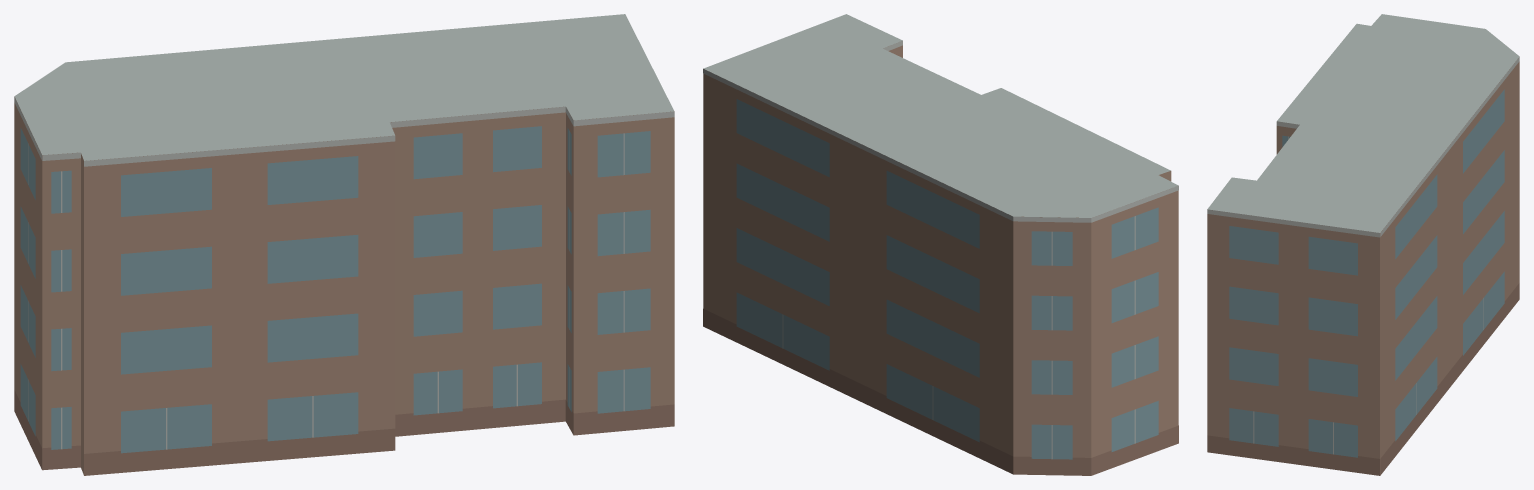
File: survey-upis-32702220.glb
3 views of the same model, side by side, from view 1: azimuth 30°, elevation 25°; view 2: azimuth 150°, elevation 25°; view 3: azimuth 270°, elevation 25° (orthographic). The views are drawn at different scales.
Visible parts, largest first — view 1: survey-upis-32702220.tmp; view 2: survey-upis-32702220.tmp; view 3: survey-upis-32702220.tmp.
Part boxes in pixels (x1,y1,x2,y2): survey-upis-32702220.tmp: [14, 14, 674, 475]; survey-upis-32702220.tmp: [703, 14, 1178, 475]; survey-upis-32702220.tmp: [1207, 14, 1519, 475].
Bounding box in the file's own units: 25.34 × 13.1 × 15.28.
